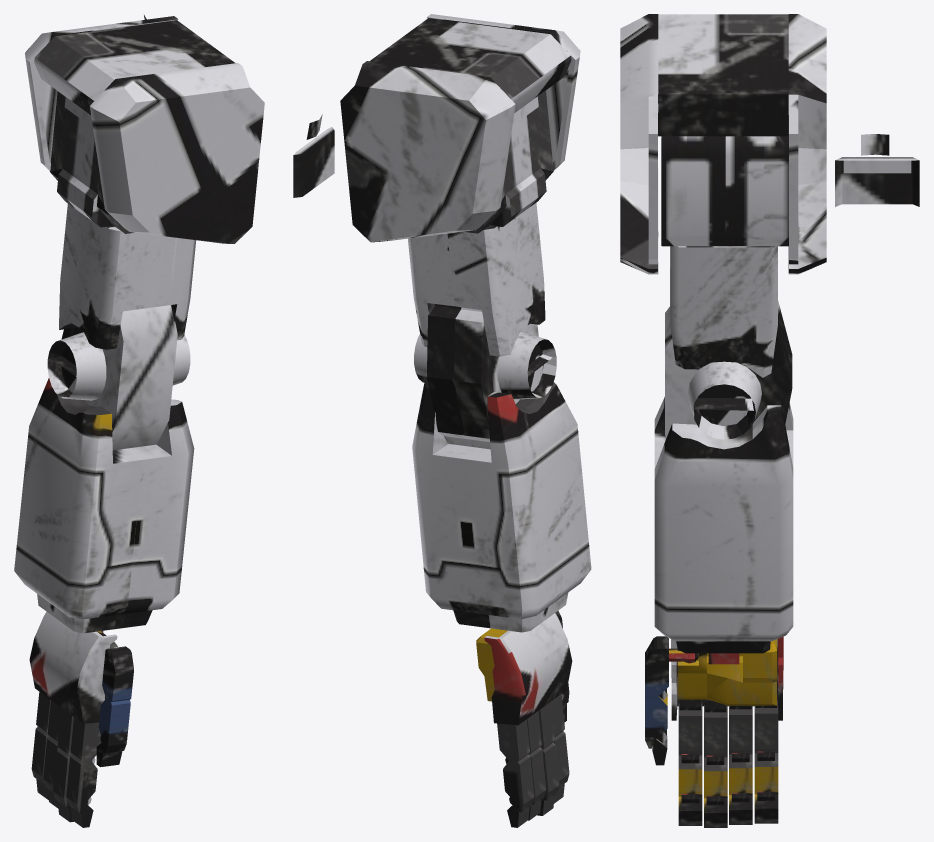
File: hand.obj
3 renders of one model, left to right at view 1: azimuth 30°, elevation 25°; view 2: azimuth 150°, elevation 25°; view 3: azimuth 270°, elevation 25°, orthographic. The views are drawn at different scales.
Parts seen in each view (by area): view 1: Gundam4:polySurface666; view 2: Gundam4:polySurface666; view 3: Gundam4:polySurface666.
Part boxes in pixels (<box>): Gundam4:polySurface666: <box>14,15,264,827</box>; Gundam4:polySurface666: <box>293,14,591,827</box>; Gundam4:polySurface666: <box>620,14,919,827</box>.
Bounding box in the file's own units: 3.06 × 12.02 × 3.96.
Materials: 1 (1 with a texture image).
